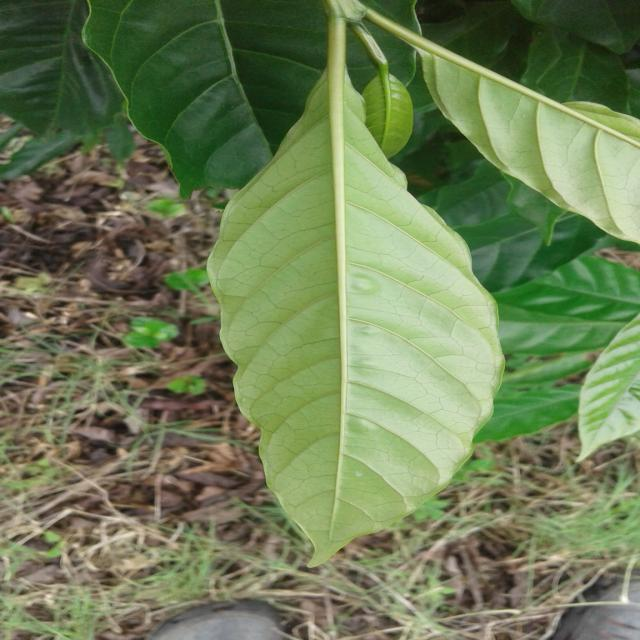Sanas: (206, 0, 504, 568)
